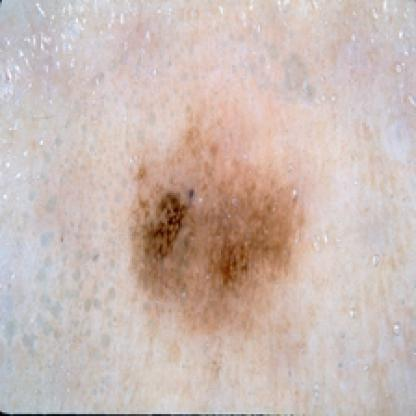malignant: (143, 119, 308, 323)
